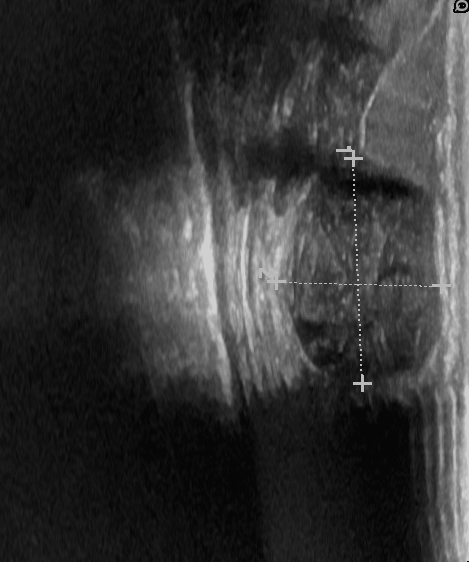Benign: (289, 178, 442, 384)
